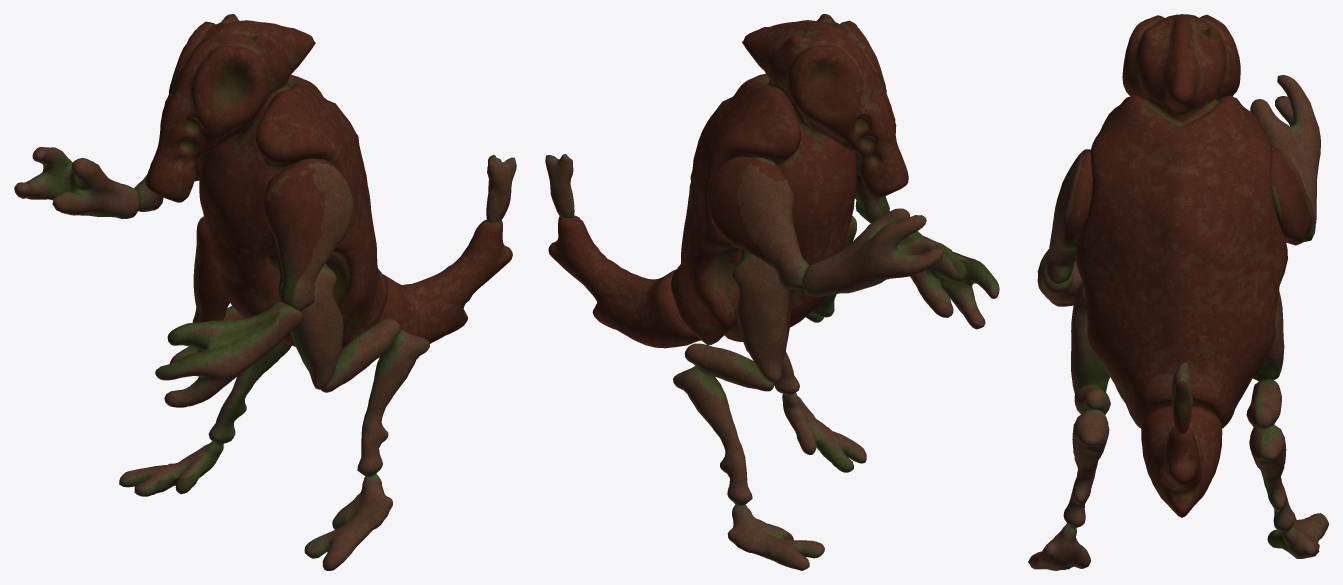
The model's file is insektoid.glb.
3 views of the same model, side by side, from view 1: azimuth 30°, elevation 25°; view 2: azimuth 150°, elevation 25°; view 3: azimuth 270°, elevation 25° (orthographic). The views are drawn at different scales.
Parts seen in each view (by area): view 1: Retopo_Körper_UV.002; view 2: Retopo_Körper_UV.002; view 3: Retopo_Körper_UV.002.
Part boxes in pixels (x1,y1,x2,y2): Retopo_Körper_UV.002: (14,14,516,570); Retopo_Körper_UV.002: (545,14,999,570); Retopo_Körper_UV.002: (1028,14,1328,570).
Size of the model in its own units: 11.27 by 12.01 by 6.1.
1 material, 1 textured.
